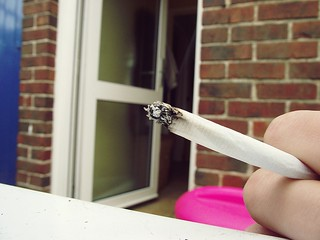cigarette: (141, 99, 319, 181)
